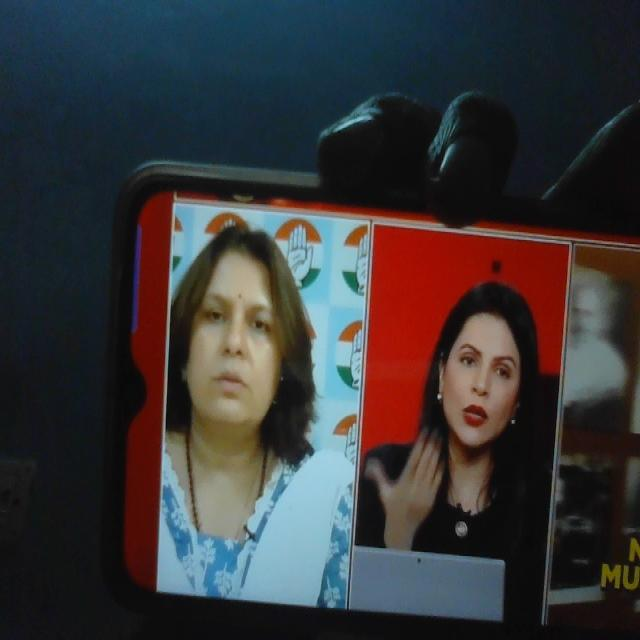fake: (176, 219, 296, 445), (427, 252, 542, 469)
